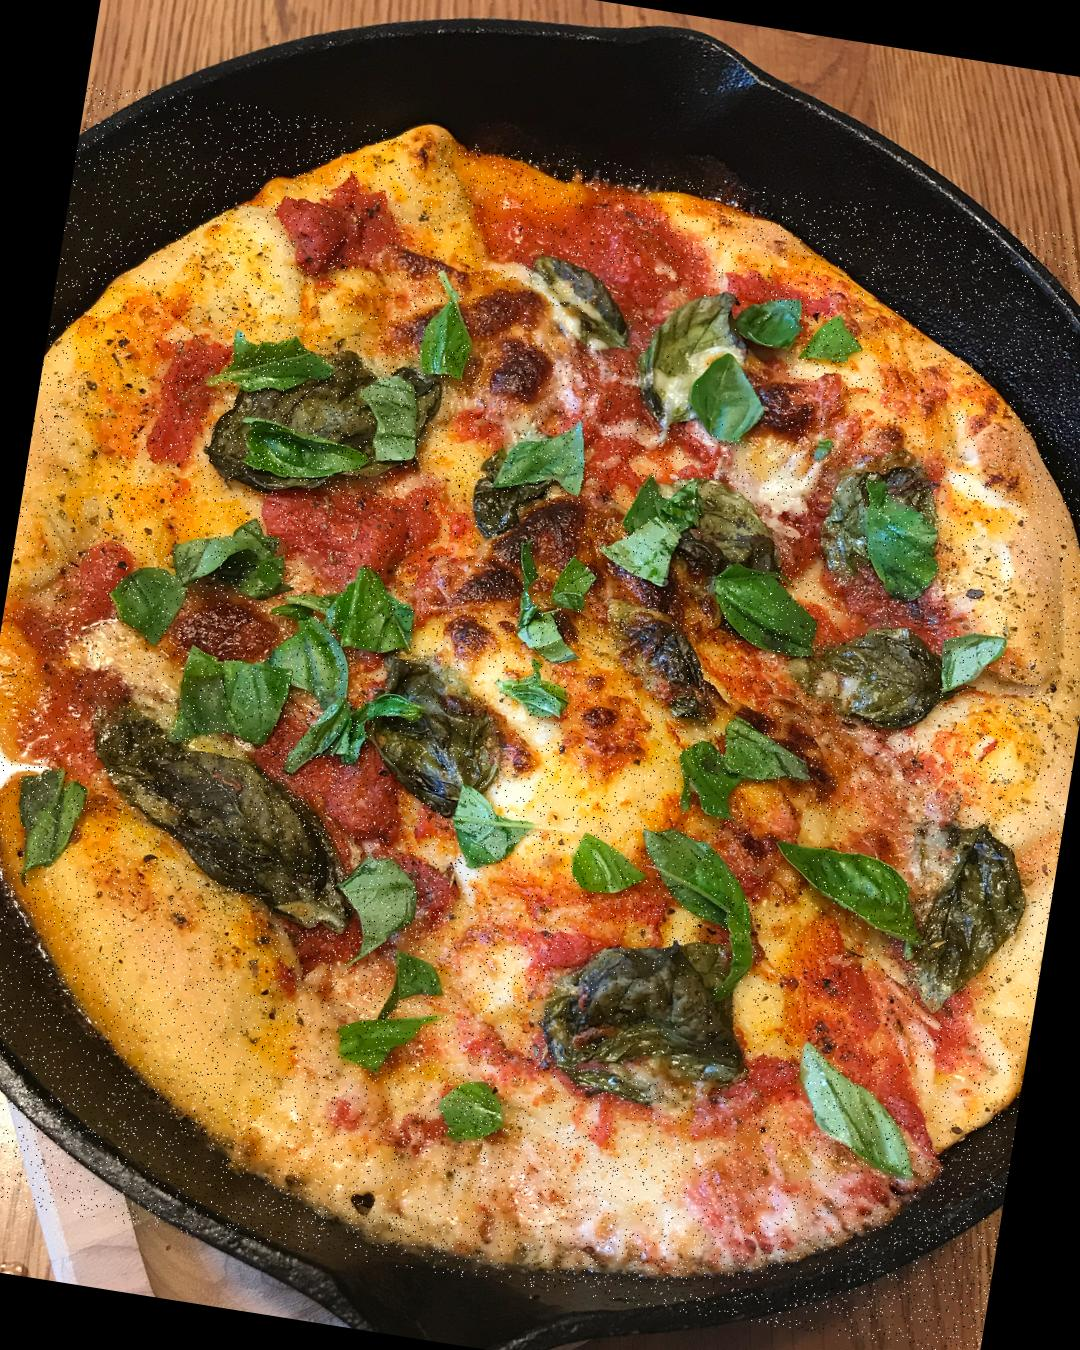Basil: (75, 720, 360, 928), (203, 316, 456, 518), (539, 928, 756, 1094), (774, 824, 1024, 963), (773, 605, 1004, 727), (361, 659, 514, 819), (638, 290, 793, 445), (802, 455, 953, 595), (640, 473, 788, 594), (523, 255, 648, 360)
Pizza: (0, 80, 1080, 1350)
